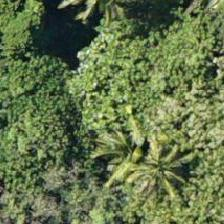coconut_tree: (75, 98, 165, 188), (114, 128, 204, 218)
